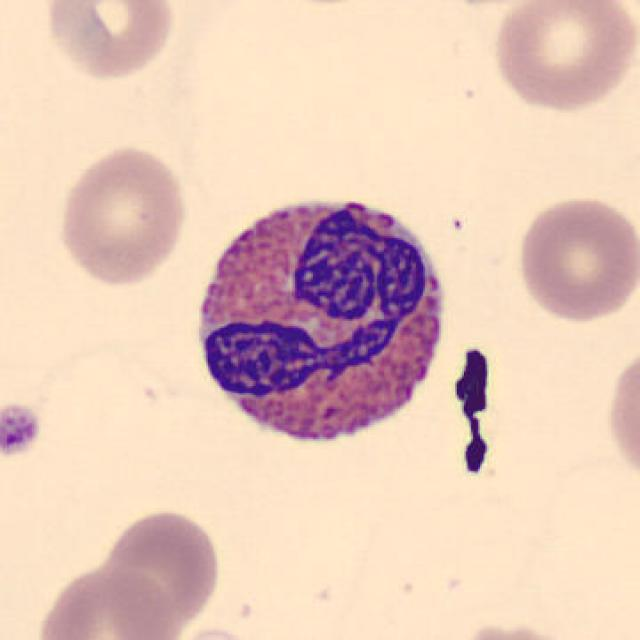Eosinophil: (183, 178, 462, 467)
Platelets: (0, 400, 44, 460)
RBC: (54, 141, 190, 289), (489, 0, 636, 115), (96, 504, 224, 636), (512, 192, 638, 324), (39, 0, 180, 83), (34, 562, 180, 640), (601, 338, 640, 492), (444, 619, 596, 640), (162, 624, 276, 640)
